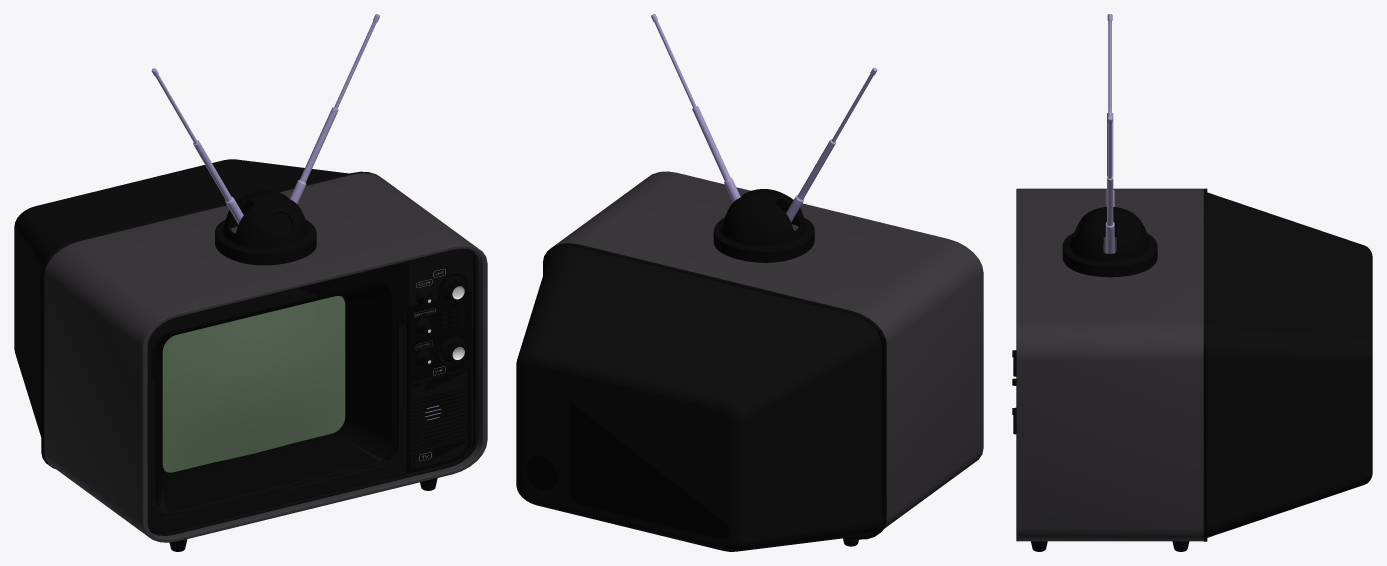
The model's file is TV-texture.glb.
The picture shows the model from 3 angles, left to right: view 1: azimuth 30°, elevation 25°; view 2: azimuth 150°, elevation 25°; view 3: azimuth 270°, elevation 25°; orthographic projection. The views are drawn at different scales.
Parts seen in each view (by area): view 1: Body, Plane.002, Screen, Butt, Cube, Plane.004, Cylinder.001, Circle; view 2: Butt, Body, Cube, Cylinder.001; view 3: Body, Butt, Cube, Cylinder.001.
Boxes of the visible parts, <box> form: Body: <box>44,173,487,542</box>; Plane.002: <box>147,249,478,535</box>; Screen: <box>162,296,345,472</box>; Butt: <box>14,159,377,468</box>; Cube: <box>215,190,316,265</box>; Plane.004: <box>411,369,467,467</box>; Cylinder.001: <box>151,14,379,224</box>; Circle: <box>414,391,461,442</box>; Butt: <box>516,243,886,551</box>; Body: <box>549,171,983,528</box>; Cube: <box>713,189,814,262</box>; Cylinder.001: <box>651,14,877,222</box>; Body: <box>1016,188,1203,541</box>; Butt: <box>1203,188,1372,541</box>; Cube: <box>1062,207,1157,277</box>; Cylinder.001: <box>1105,14,1114,253</box>.
Size of the model in its own units: 2.48 by 3.08 by 2.36.
Materials: 7 (2 with a texture image).
